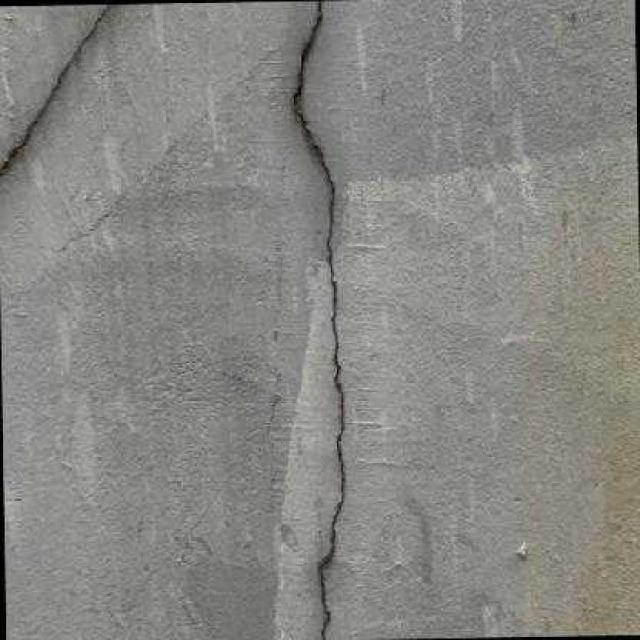D00: (289, 6, 349, 636)
